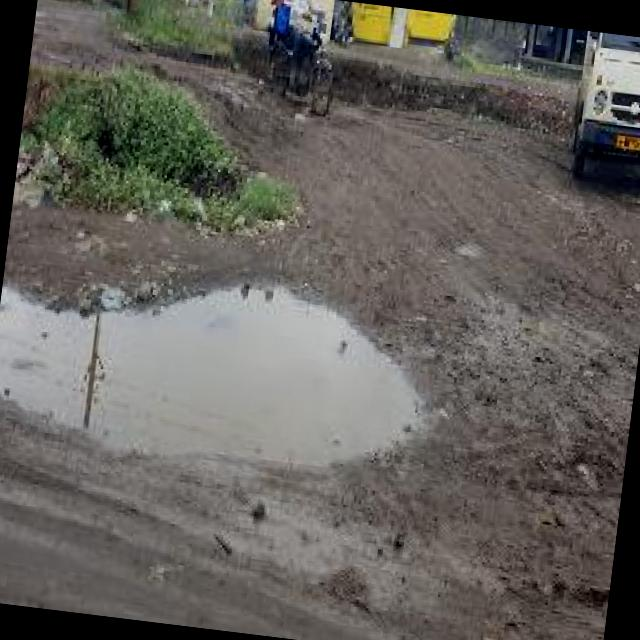waterlogging: (0, 244, 445, 494)
